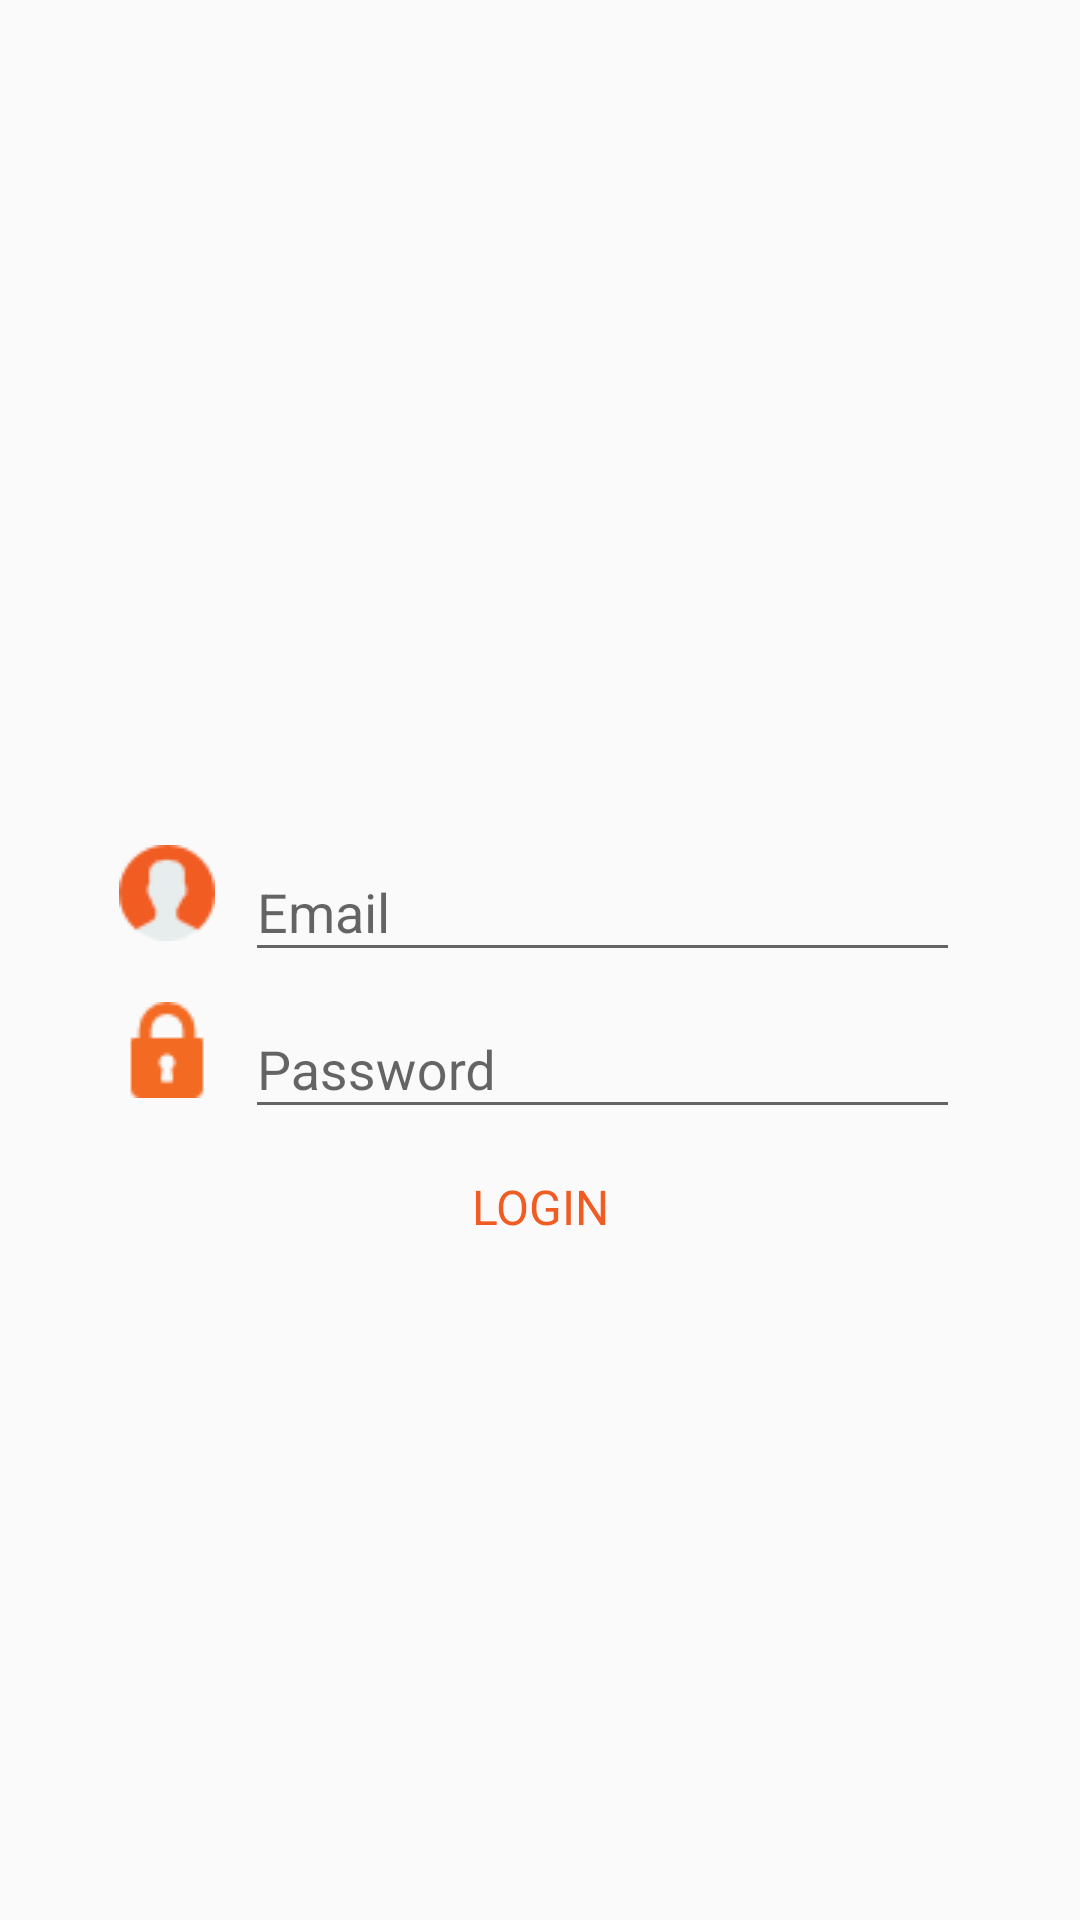

Icon bounding boxes for this 1080w x 1920h phone screenshot, format (x1, y1, x2, y2):
lock: (130, 1002, 204, 1098)
user: (119, 845, 215, 930)
